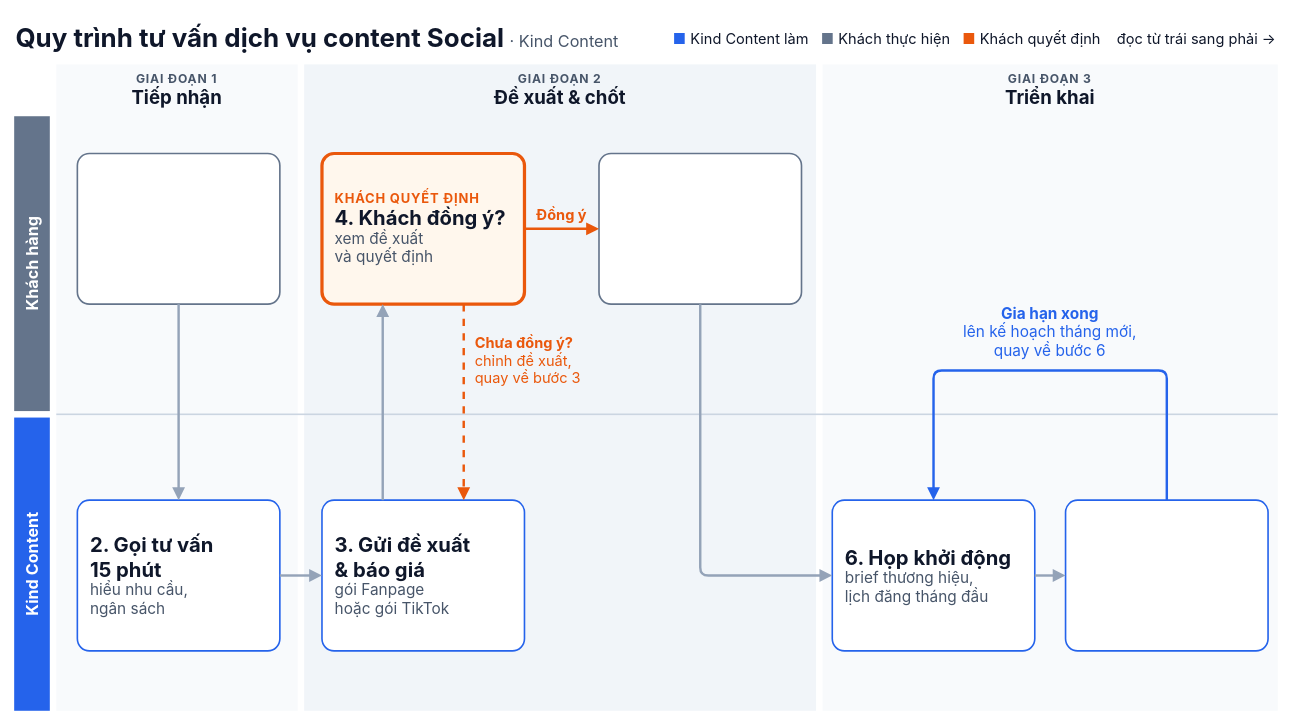
Some shapes in this 1291 by 724 pixel diagram are drawn without their labels. Each missing label, with the centre of its shape:
"1. Khách để lại thông tin qua form trên web hoặc inbox" goes at [178,228].
"5. Ký hợp đồng & đặt cọc chốt gói, bắt đầu hợp tác" goes at [700,228].
"7. Báo cáo tháng & gia hạn báo cáo hằng tháng, gia hạn hợp đồng" goes at [1166,575].
